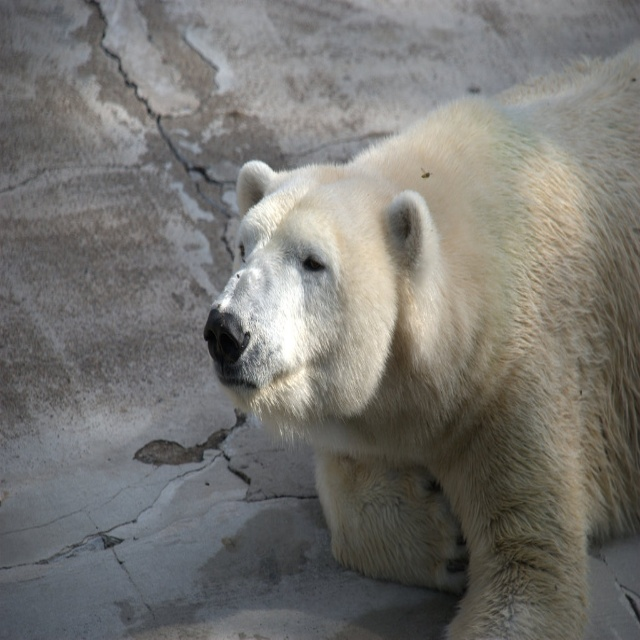Polar bear: (203, 40, 640, 640)
